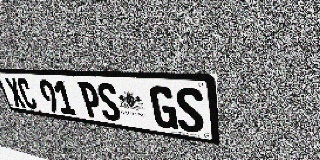1: (51, 80, 76, 115)
9: (37, 79, 62, 113)
C: (15, 78, 39, 110)
G: (149, 85, 178, 130)
P: (77, 82, 104, 119)
S: (174, 87, 205, 134), (95, 82, 122, 122)
X: (4, 78, 27, 108)
